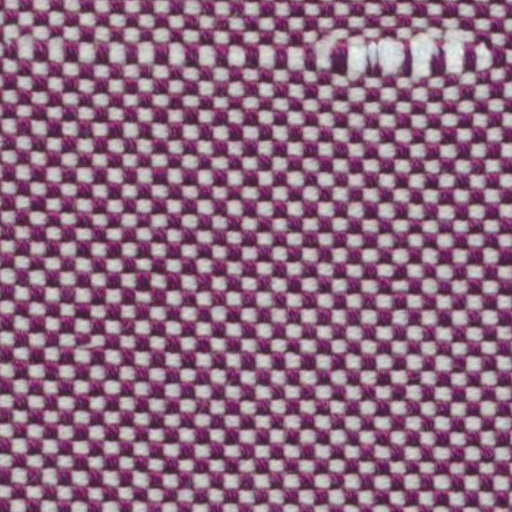DaiSha: (21, 14, 500, 94)
